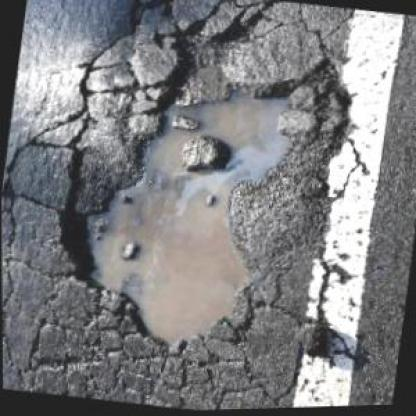pothole: (34, 22, 356, 379)
